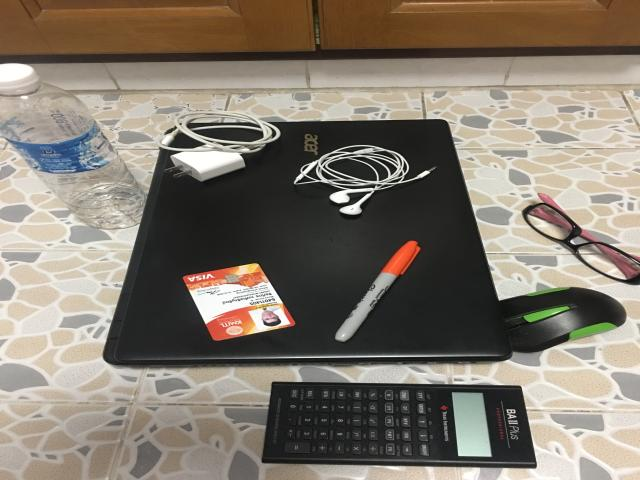Glasses: (522, 193, 640, 285)
Mouse: (500, 287, 627, 352)
Pen: (335, 241, 420, 341)
bottle: (0, 64, 145, 229)
wire: (293, 145, 435, 215), (155, 111, 280, 181)
